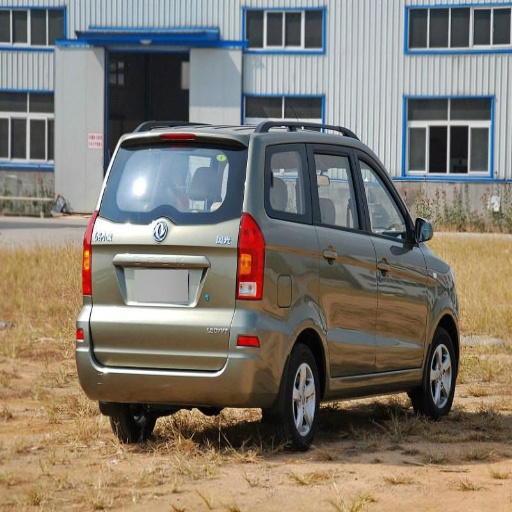back_bumper: (75, 301, 292, 402)
back_right_door: (268, 144, 376, 375)
tailgate: (92, 216, 192, 303)
trunk: (98, 216, 241, 354)
